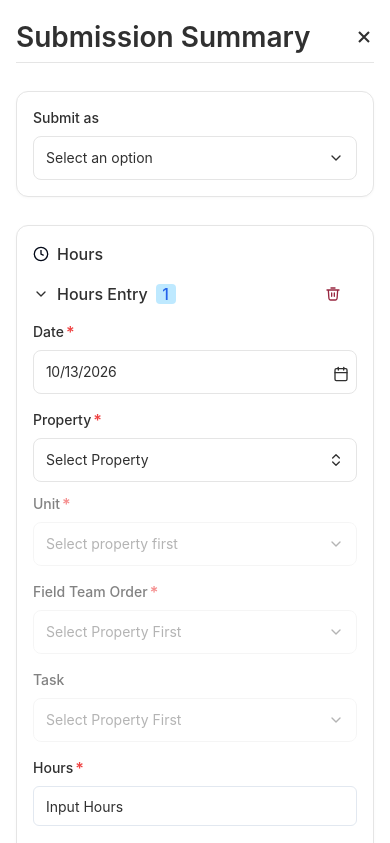
Scenario: FtoSubmissionForm — Field Team Order rename + new Task field › enables the Task field on property alone, with no field team order picked
Expected: the text "Property" is shown, top-left (33, 410), bottom-right (91, 430)
Click the button "Select Property": (97, 460) top-left (33, 438), bottom-right (357, 482)
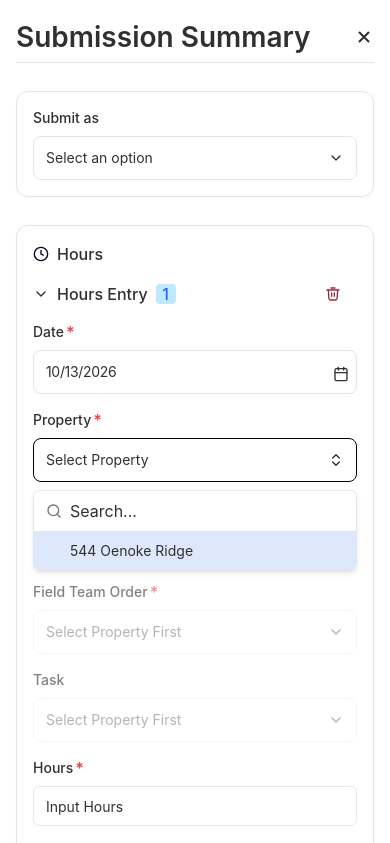
Click the button "544 Oenoke Ridge": (195, 550) top-left (34, 532), bottom-right (356, 569)
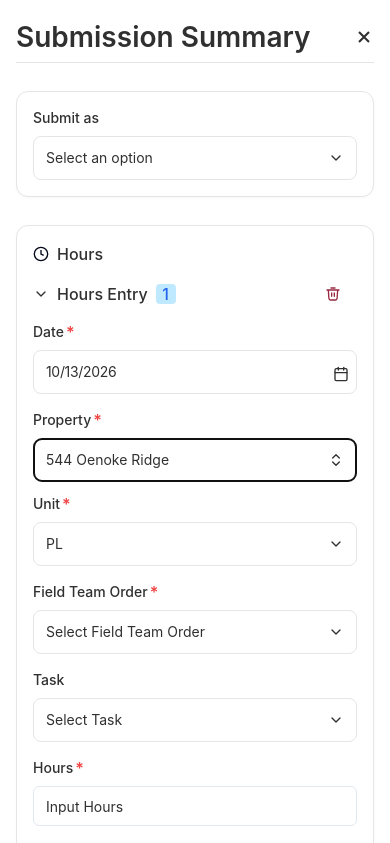
Now the button "Select Field Team Order" is shown, box top-left (33, 610), bottom-right (357, 654)
Now the button "Select Task" is shown, box top-left (33, 698), bottom-right (357, 742)
